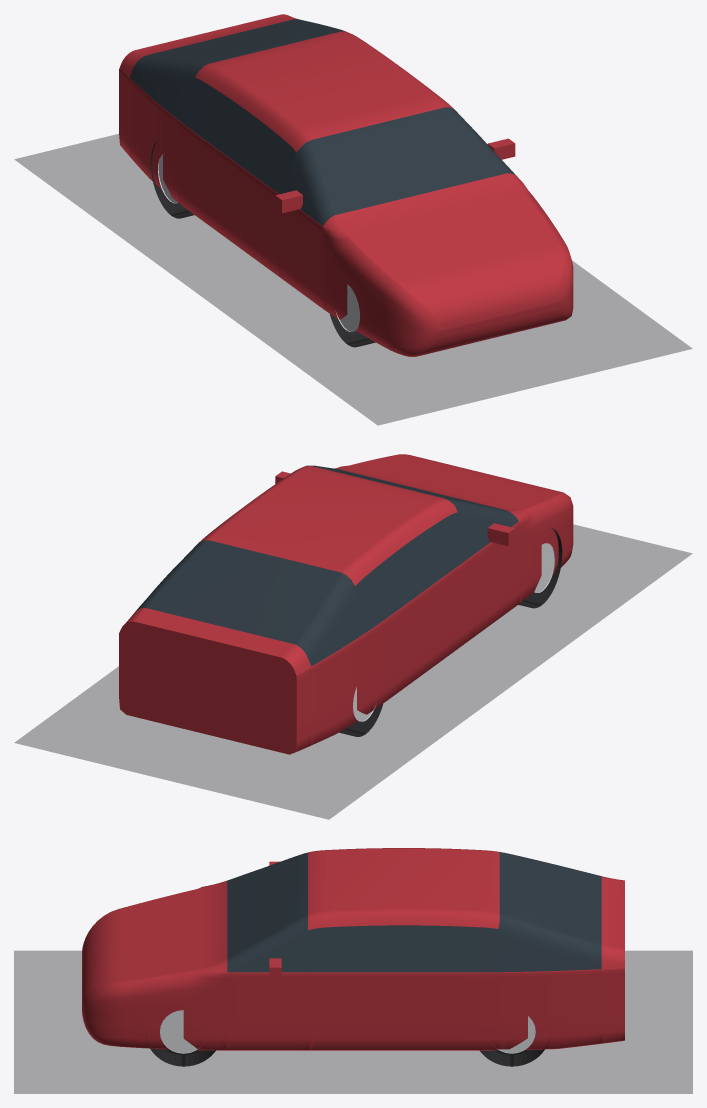
The model's file is sample-fastback.glb.
The picture shows the model from 3 angles, top to bottom: view 1: azimuth 30°, elevation 25°; view 2: azimuth 150°, elevation 25°; view 3: azimuth 270°, elevation 25°; orthographic projection. The views are drawn at different scales.
Parts seen in each view (by area): view 1: body_paint, ground_shadow, body_glass; view 2: body_paint, ground_shadow, body_glass, tyre_front_left, rim_front_left; view 3: body_paint, ground_shadow, body_glass, rim_front_right, tyre_front_right, tyre_rear_right.
Boxes of the visible parts, x1,y1,x2,y2 form: body_paint: (119,14,573,356); ground_shadow: (14,134,692,425); body_glass: (129,19,516,225); body_paint: (119,454,573,754); ground_shadow: (14,524,692,819); body_glass: (135,465,518,666); tyre_front_left: (518,528,562,608); rim_front_left: (534,543,555,592); body_paint: (82,848,624,1050); ground_shadow: (14,951,692,1093); body_glass: (227,852,601,972); rim_front_right: (160,1010,198,1053); tyre_front_right: (145,1033,216,1066); tyre_rear_right: (479,1034,550,1066).
Bounding box in the file's own units: 3 × 1.4 × 6.
